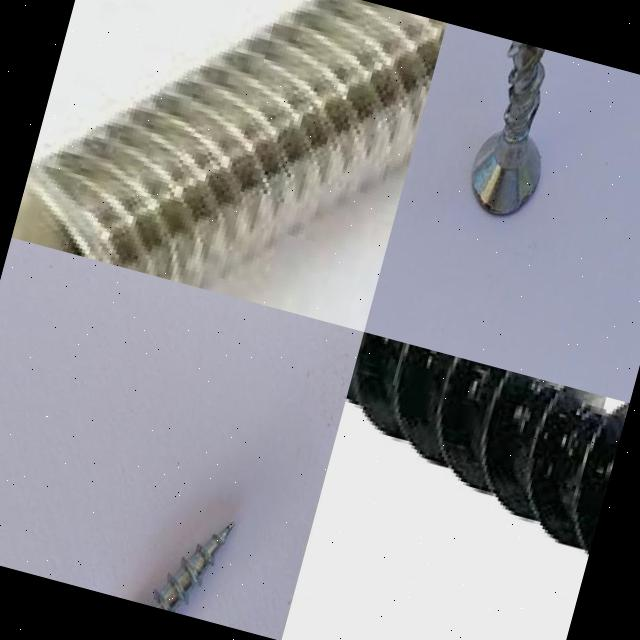Screw: (11, 0, 446, 293), (345, 332, 628, 561), (472, 40, 545, 213), (148, 520, 234, 612)
